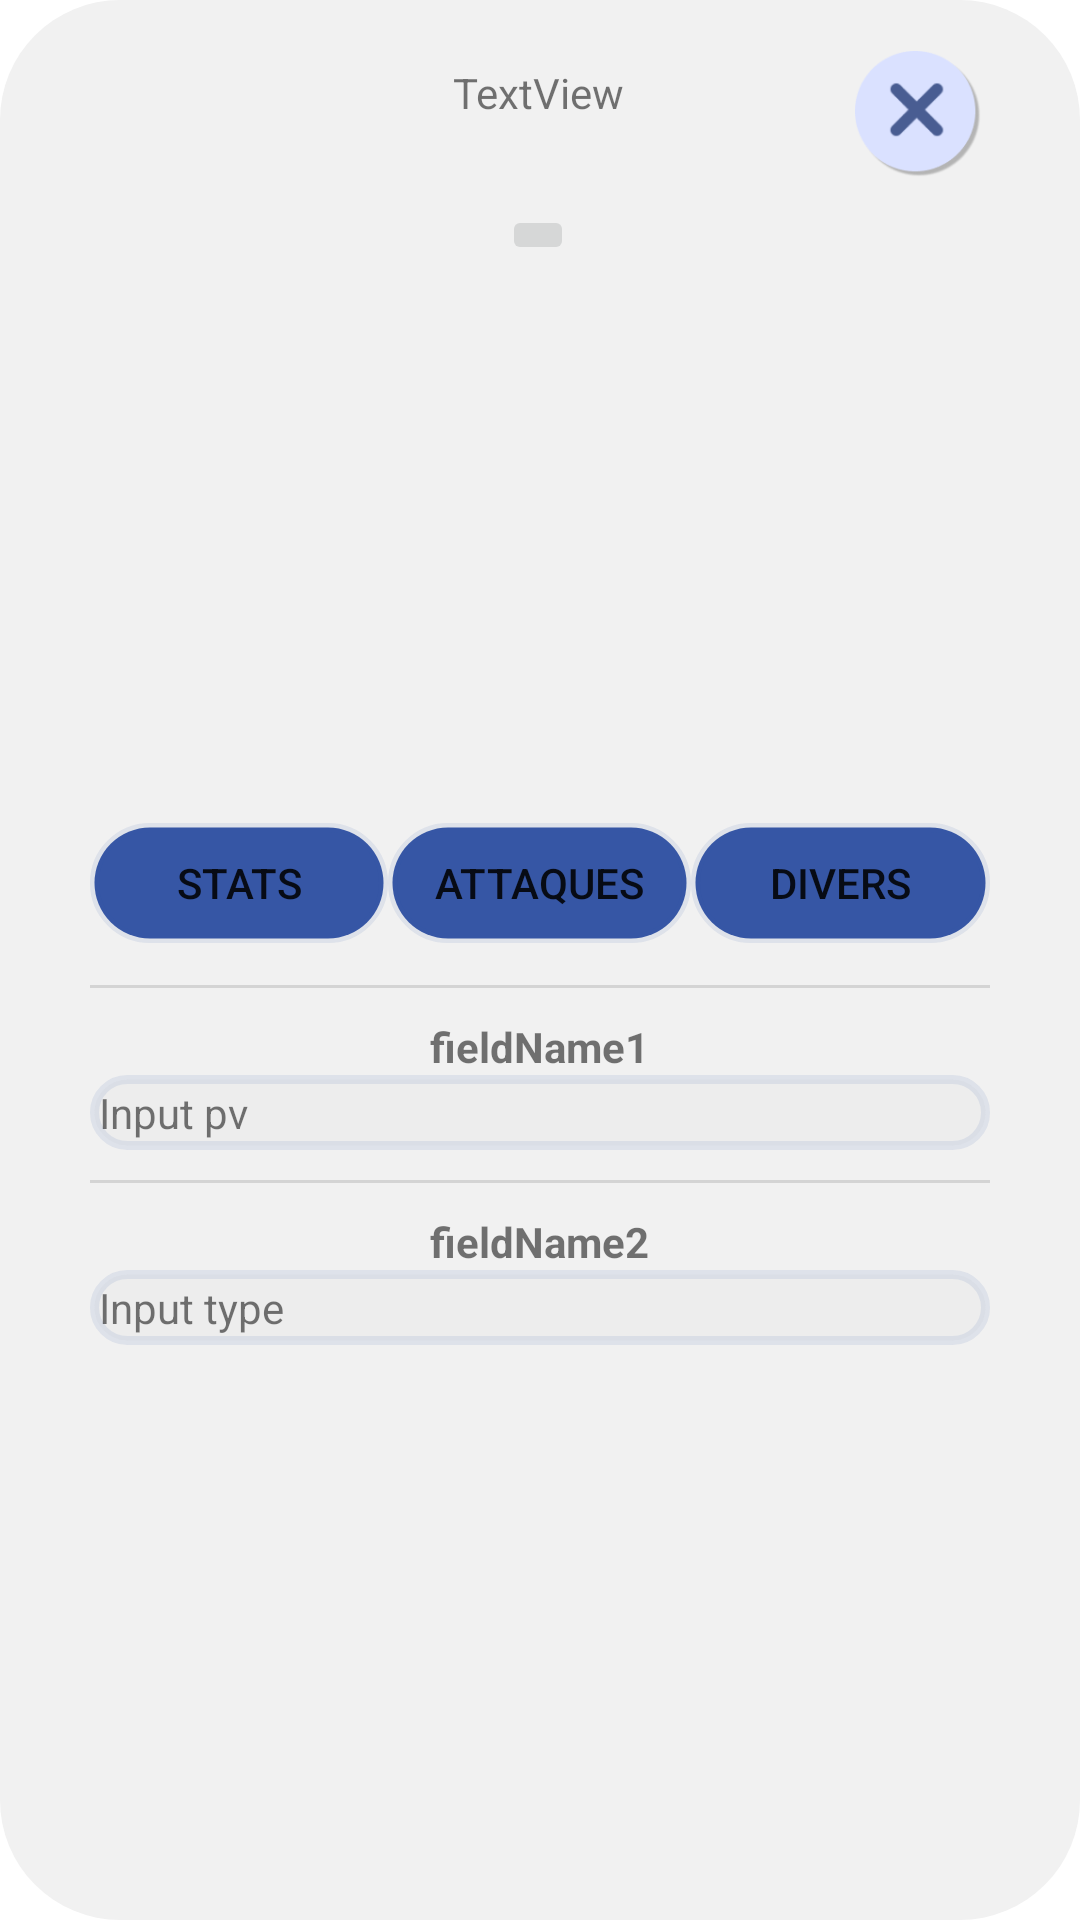

Named icons in this screenshot (1080 x 1920) and their centers, (x,y):
close: (917,113)
